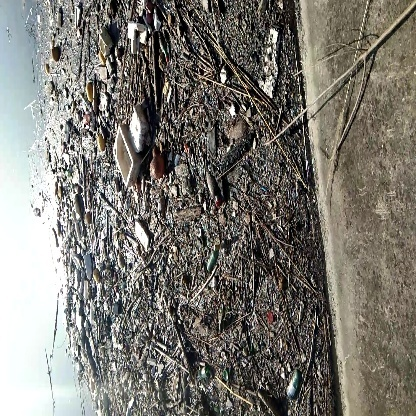branch: (294, 5, 416, 150)
